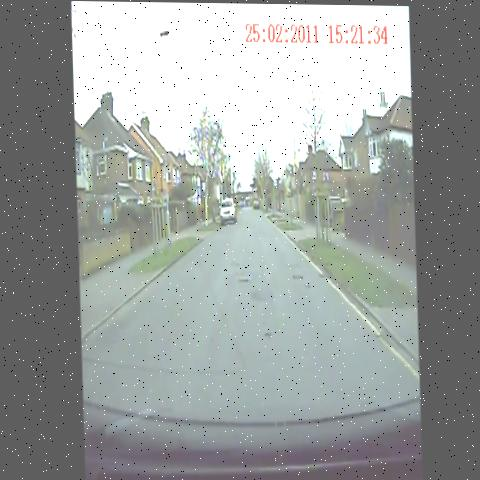pothole: (241, 281, 277, 312), (285, 264, 312, 295), (252, 323, 279, 342), (231, 266, 254, 284), (312, 265, 331, 286), (224, 256, 246, 272)
